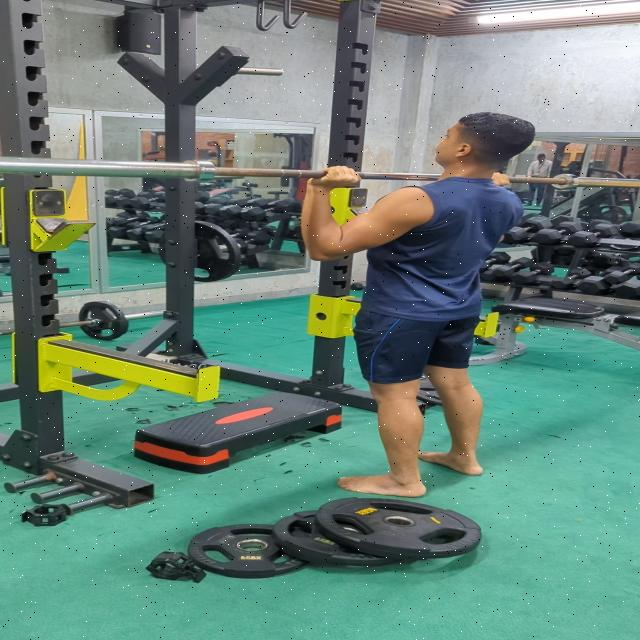Normal_OverheadPress: (296, 88, 548, 500)
